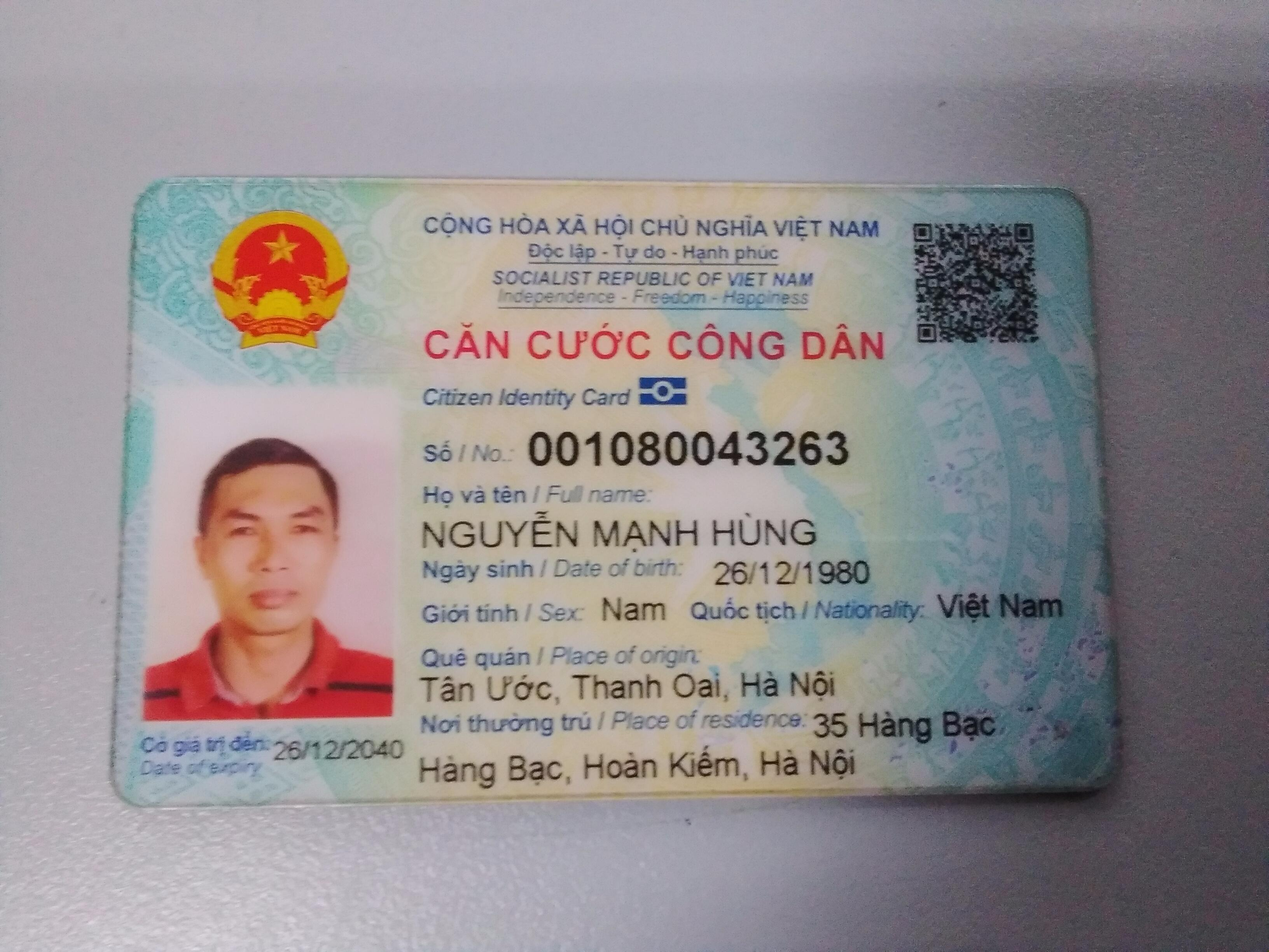ID: (522, 417, 860, 474)
birth: (697, 547, 893, 592)
name: (414, 509, 839, 556)
place: (403, 662, 854, 708)
residence: (402, 741, 878, 788), (809, 704, 1004, 750)
